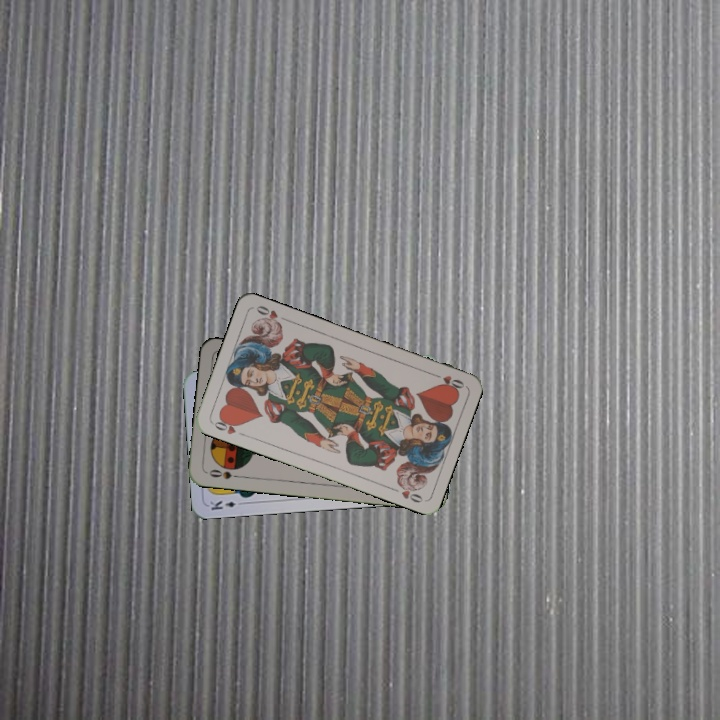EK: (206, 496, 247, 513)
HO: (209, 414, 248, 439), (428, 369, 467, 393)
SO: (205, 465, 243, 482)
